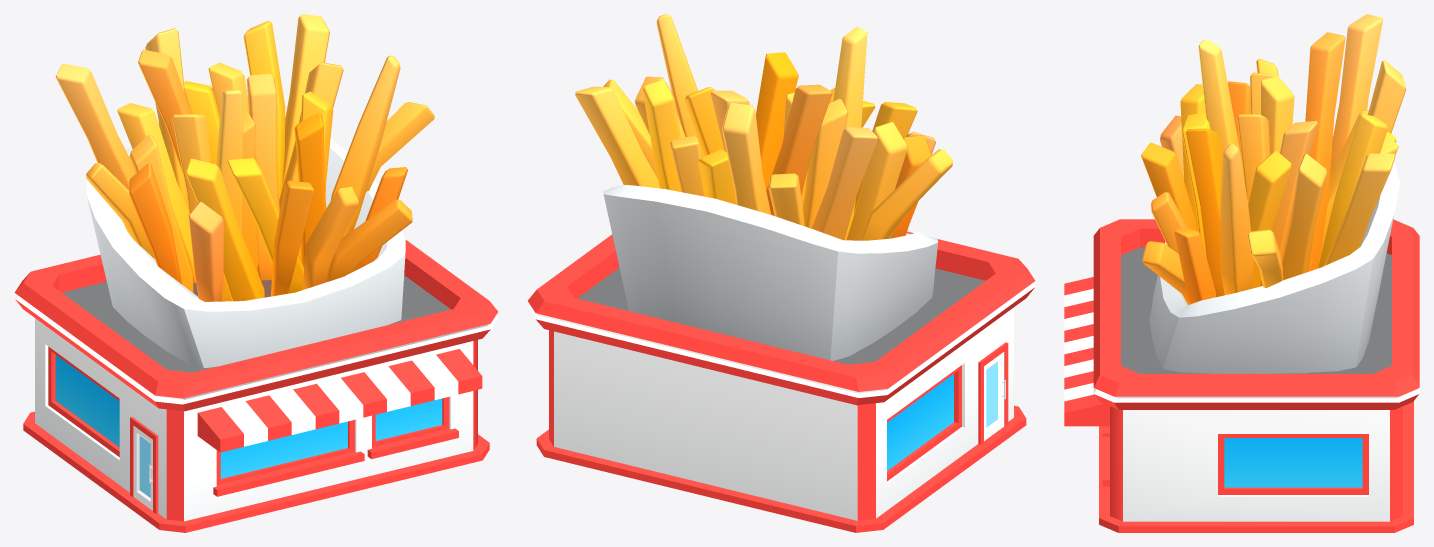
File: city2-building-snack-06.glb
3 views of the same model, side by side, from view 1: azimuth 30°, elevation 25°; view 2: azimuth 150°, elevation 25°; view 3: azimuth 270°, elevation 25° (orthographic). The views are drawn at different scales.
Parts seen in each view (by area): view 1: Building_Snack_06; view 2: Building_Snack_06; view 3: Building_Snack_06.
Part boxes in pixels (x1,y1,x2,y2): Building_Snack_06: [14, 14, 498, 532]; Building_Snack_06: [527, 14, 1035, 532]; Building_Snack_06: [1064, 14, 1419, 532].
Size of the model in its own units: 10.86 by 11.32 by 9.45.
Materials: 1 (1 with a texture image).
